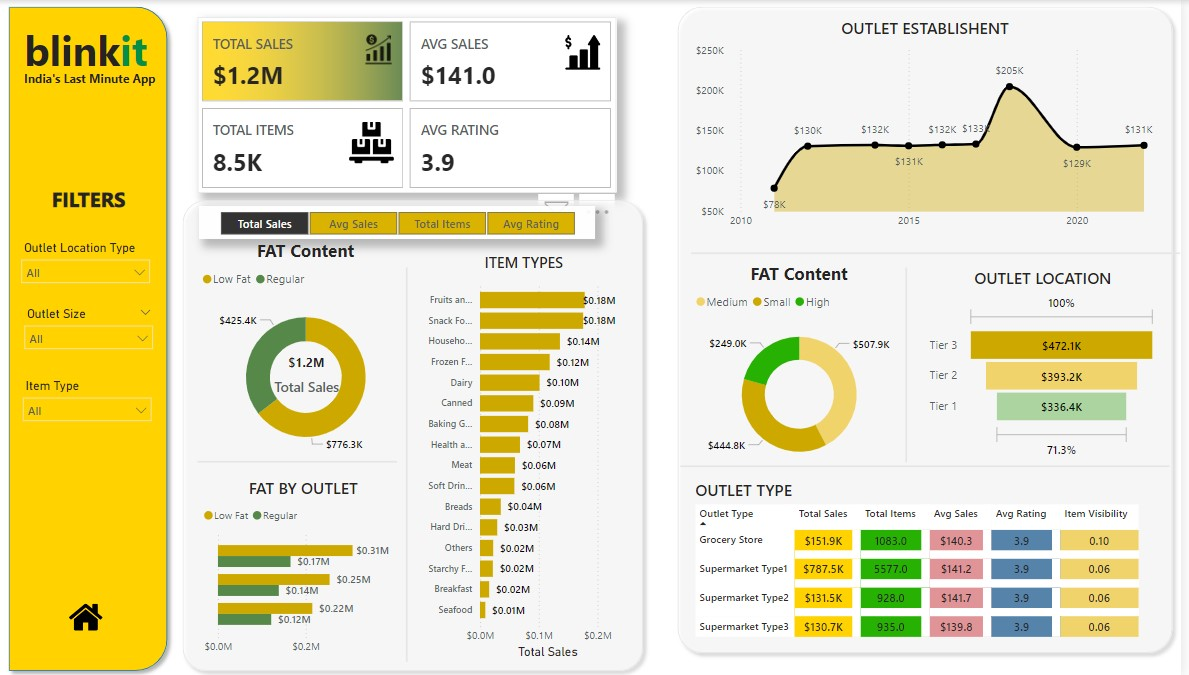

This screenshot's page, from the dashboard's own definition file:
{"tool":"powerbi","page":{"name":"Page 1","canvas":[1400,800],"ordinal":0},"visuals":[{"type":"shape","box":[10.6,0,205,800.6],"z":0},{"type":"textbox","box":[24.8,20.7,171.6,78.5],"z":1000},{"type":"textbox","box":[16.5,78.5,198.4,39.3],"z":2000},{"type":"cardVisual","fields":{"Data":["BlinkIT Grocery Data.Total Sales","BlinkIT Grocery Data.Avg Sales","BlinkIT Grocery Data.Total Items","BlinkIT Grocery Data.Avg Rating"]},"box":[241.8,20.7,494,206.7],"z":3000},{"type":"shape","box":[215.6,228,560.2,572.6],"z":4000},{"type":"donutChart","title":"FAT Content","fields":{"Y":["BlinkIT Grocery Data.Total Sales"],"Category":["BlinkIT Grocery Data.Item Fat Content"]},"box":[242.1,282.8,254.5,268.6],"z":5000},{"type":"slicer","fields":{"Values":["Matrics.Matrics"]},"box":[243.9,243.9,466.6,38.9],"z":6000},{"type":"card","fields":{"Values":["BlinkIT Grocery Data.Total Sales"]},"box":[314.6,399.4,111.3,83.1],"z":7000},{"type":"clusteredBarChart","title":"FAT BY OUTLET","fields":{"Category":["BlinkIT Grocery Data.Outlet Location Type"],"Series":["BlinkIT Grocery Data.Item Fat Content"],"Y":["BlinkIT Grocery Data.Total Sales"]},"box":[243.9,563.8,245.7,217.4],"z":8000},{"type":"shape","box":[242.1,512.5,235.1,65.4],"z":9000},{"type":"shape","box":[415.3,316.4,146.7,464.8],"z":10000},{"type":"barChart","title":"ITEM TYPES","fields":{"Y":["BlinkIT Grocery Data.Total Sales"],"Category":["BlinkIT Grocery Data.Item Type"]},"box":[496.6,298.7,259.8,482.5],"z":11000},{"type":"shape","box":[798.8,0,600.9,779.4],"z":12000},{"type":"lineChart","title":"OUTLET ESTABLISHENT","fields":{"Y":["BlinkIT Grocery Data.Total Sales"],"Category":["BlinkIT Grocery Data.Outlet Establishment Year"]},"box":[823.6,21.2,551.4,258],"z":13000},{"type":"shape","box":[823.6,266.9,576.2,65.4],"z":14000},{"type":"slicer","title":"OUTLET SIZE","fields":{"Values":["BlinkIT Grocery Data.Outlet Location Type"]},"box":[24.7,279.2,171.4,60.1],"z":15000},{"type":"shape","box":[1003.9,316.4,146.7,229.8],"z":16000},{"type":"funnel","title":"OUTLET LOCATION","fields":{"Y":["BlinkIT Grocery Data.Total Sales"],"Category":["BlinkIT Grocery Data.Outlet Location Type"]},"box":[1099.3,316.4,277.5,229.8],"z":17000},{"type":"shape","box":[811.2,517.8,576.2,65.4],"z":18000},{"type":"pivotTable","title":"OUTLET TYPE","fields":{"Rows":["BlinkIT Grocery Data.Outlet Type"],"Values":["BlinkIT Grocery Data.Total Sales","BlinkIT Grocery Data.Total Items","BlinkIT Grocery Data.Avg Sales","BlinkIT Grocery Data.Avg Rating","Avg(BlinkIT Grocery Data.Item Visibility)"]},"box":[823.6,565.6,563.8,217.4],"z":19000},{"type":"slicer","title":"OUTLET SIZE","fields":{"Values":["BlinkIT Grocery Data.Outlet Size"]},"box":[28.3,357,171.4,60.1],"z":20000},{"type":"slicer","title":"OUTLET SIZE","fields":{"Values":["BlinkIT Grocery Data.Item Type"]},"box":[26.5,441.8,171.4,60.1],"z":21000},{"type":"textbox","box":[65.4,213.8,201.5,49.5],"z":22000},{"type":"donutChart","title":"FAT Content","fields":{"Y":["BlinkIT Grocery Data.Total Sales"],"Category":["BlinkIT Grocery Data.Outlet Size"]},"box":[823.6,309.3,254.5,256.3],"z":23000},{"type":"image","box":[60.1,703.4,100.7,49.5],"z":24000}]}

Visuals, with their boxes in screenshot pixels (x1, y1, x2, y2), scaled from the page's 1400x800 canvas onto the 1189x675 screenshot:
shape: box=[9, 0, 183, 674]
textbox: box=[21, 17, 167, 84]
textbox: box=[14, 66, 183, 99]
cardVisual - BlinkIT Grocery Data.Total Sales x BlinkIT Grocery Data.Avg Sales: box=[205, 17, 625, 192]
shape: box=[183, 192, 659, 674]
"FAT Content" donutChart: box=[206, 239, 422, 465]
slicer - Matrics.Matrics: box=[207, 206, 603, 239]
card - BlinkIT Grocery Data.Total Sales: box=[267, 337, 362, 407]
"FAT BY OUTLET" clusteredBarChart: box=[207, 476, 416, 659]
shape: box=[206, 432, 405, 488]
shape: box=[353, 267, 477, 659]
"ITEM TYPES" barChart: box=[422, 252, 642, 659]
shape: box=[678, 0, 1188, 658]
"OUTLET ESTABLISHENT" lineChart: box=[699, 18, 1168, 236]
shape: box=[699, 225, 1188, 280]
"OUTLET SIZE" slicer: box=[21, 236, 167, 286]
shape: box=[853, 267, 977, 461]
"OUTLET LOCATION" funnel: box=[934, 267, 1169, 461]
shape: box=[689, 437, 1178, 492]
"OUTLET TYPE" pivotTable: box=[699, 477, 1178, 661]
"OUTLET SIZE" slicer: box=[24, 301, 170, 352]
"OUTLET SIZE" slicer: box=[23, 373, 168, 423]
textbox: box=[56, 180, 227, 222]
"FAT Content" donutChart: box=[699, 261, 916, 477]
image: box=[51, 593, 137, 635]
